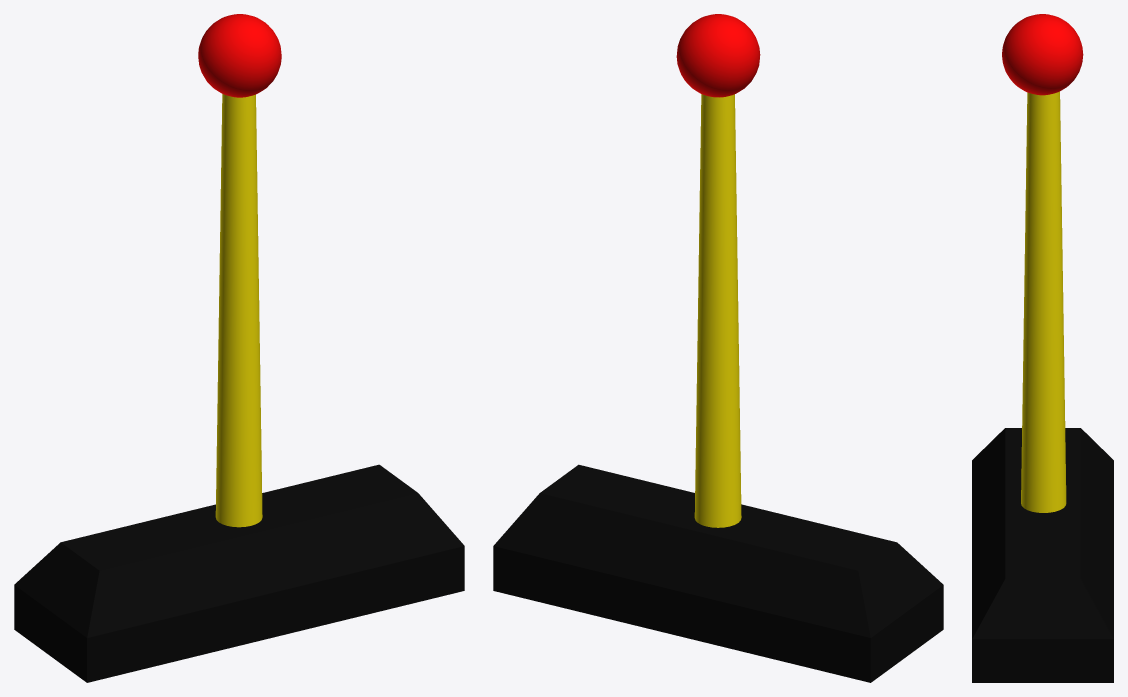
File: Lever.fbx
3 renders of one model, left to right at view 1: azimuth 30°, elevation 25°; view 2: azimuth 150°, elevation 25°; view 3: azimuth 270°, elevation 25°, orthographic. The views are drawn at different scales.
Parts seen in each view (by area): view 1: Box001, Sphere001; view 2: Box001, Sphere001; view 3: Box001, Sphere001.
Part boxes in pixels (x1,y1,x2,y2): Box001: (14, 464, 464, 682); Sphere001: (198, 14, 281, 527); Box001: (493, 464, 943, 682); Sphere001: (676, 14, 760, 527); Box001: (972, 428, 1113, 682); Sphere001: (1002, 14, 1083, 512).
Bounding box in the file's own units: 59.7 × 89.5 × 19.97.
